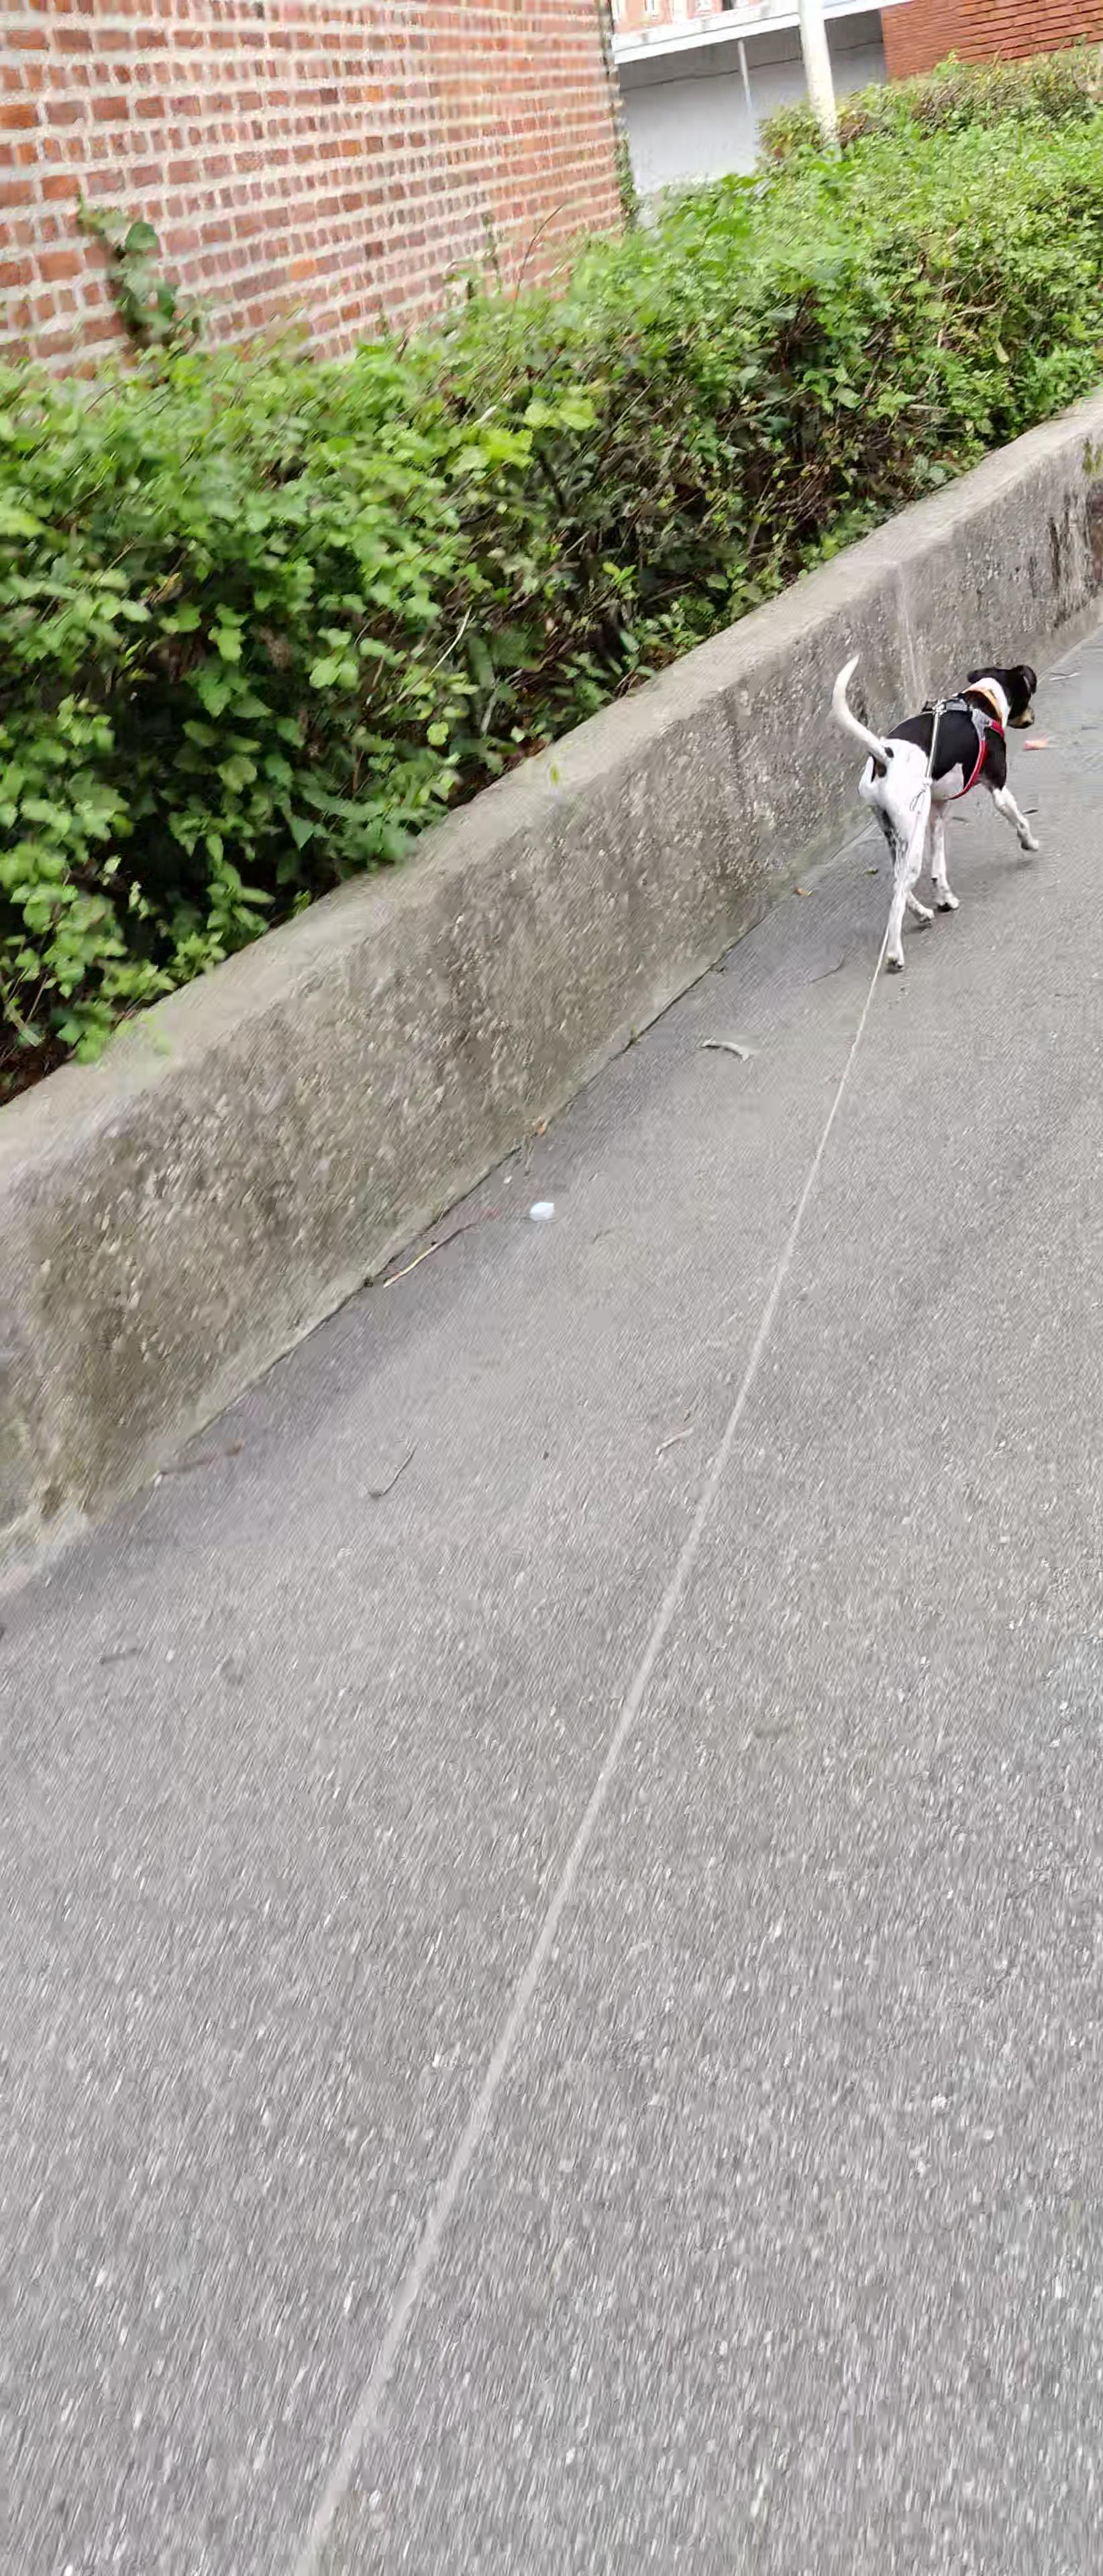Dog: (825, 649, 1042, 977)
